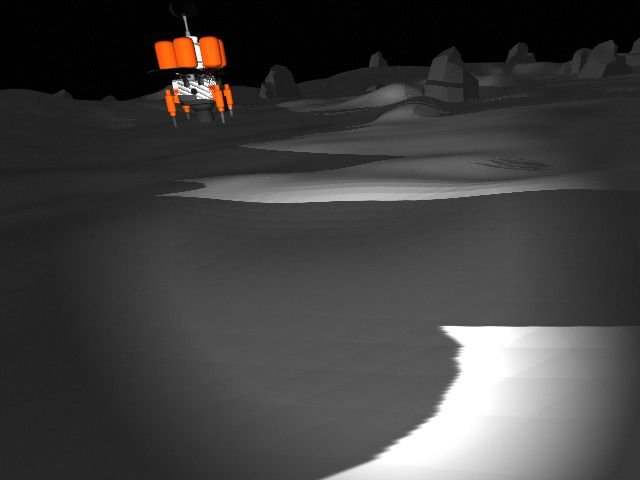homebase: (148, 1, 243, 128)
